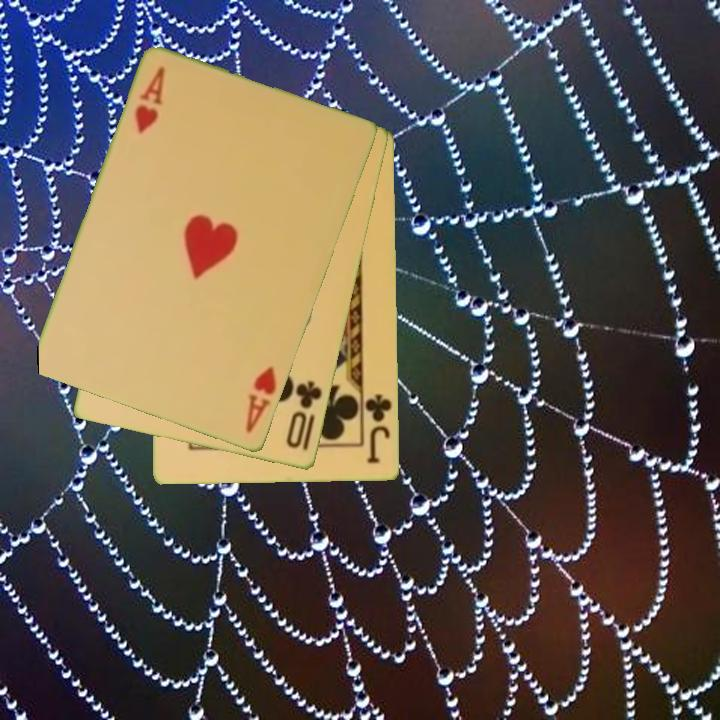10c: (283, 377, 326, 454)
Ah: (242, 363, 280, 437), (131, 63, 169, 137)
Jc: (362, 390, 395, 466)
